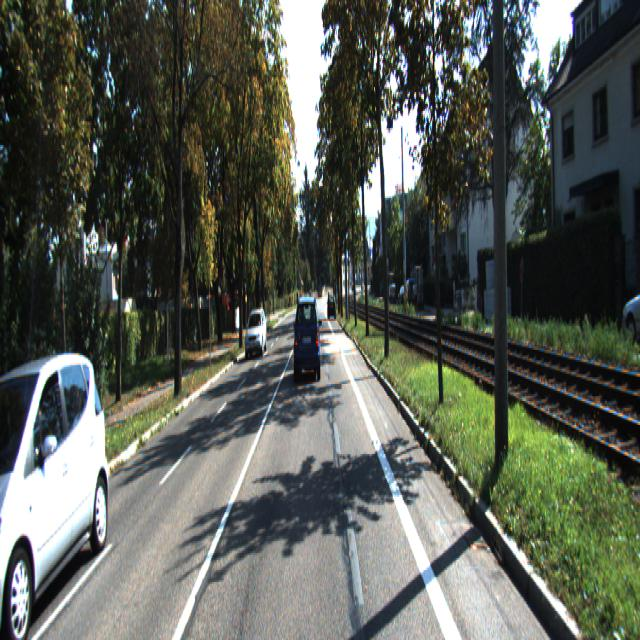Car: (0, 336, 117, 638), (293, 303, 322, 393), (622, 262, 640, 342), (245, 308, 267, 359), (328, 294, 337, 320)
